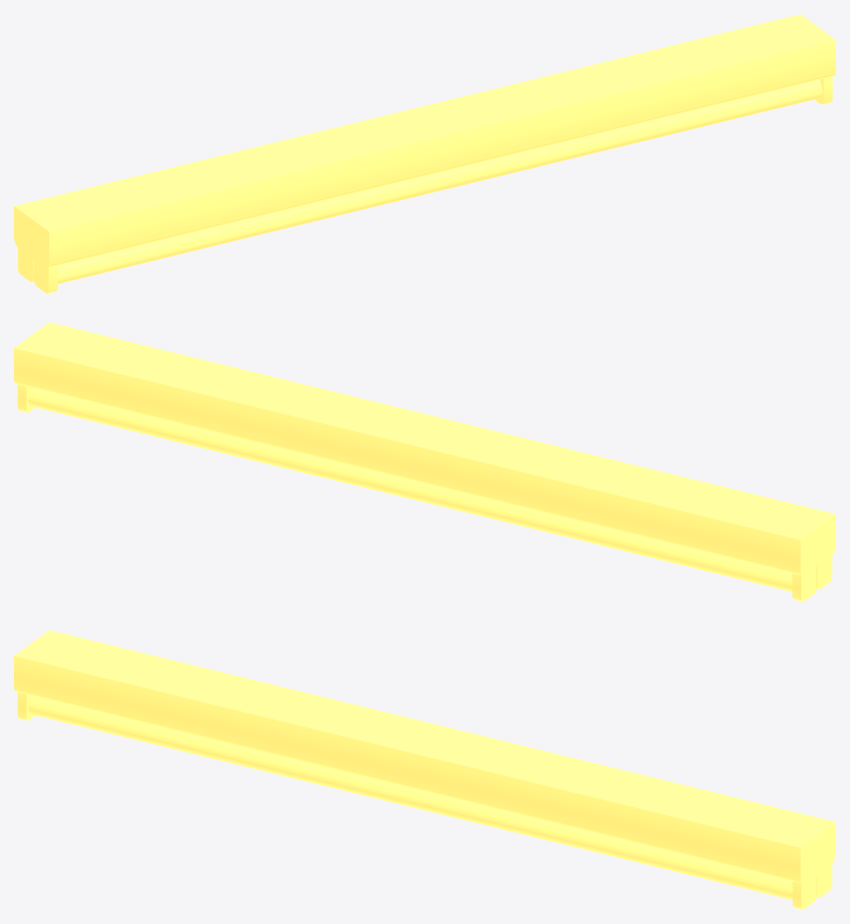
The model's file is SM_Light_Tube_02b.FBX.
3 renders of one model, top to bottom at view 1: azimuth 30°, elevation 25°; view 2: azimuth 150°, elevation 25°; view 3: azimuth 330°, elevation 25°, orthographic.
Parts seen in each view (by area): view 1: SM_Light_Tube_02b; view 2: SM_Light_Tube_02b; view 3: SM_Light_Tube_02b.
Boxes of the visible parts, x1,y1,x2,y2 form: SM_Light_Tube_02b: [14, 14, 835, 293]; SM_Light_Tube_02b: [14, 322, 835, 601]; SM_Light_Tube_02b: [14, 630, 835, 909].
Size of the model in its own units: 125 by 9.75 by 9.93.
